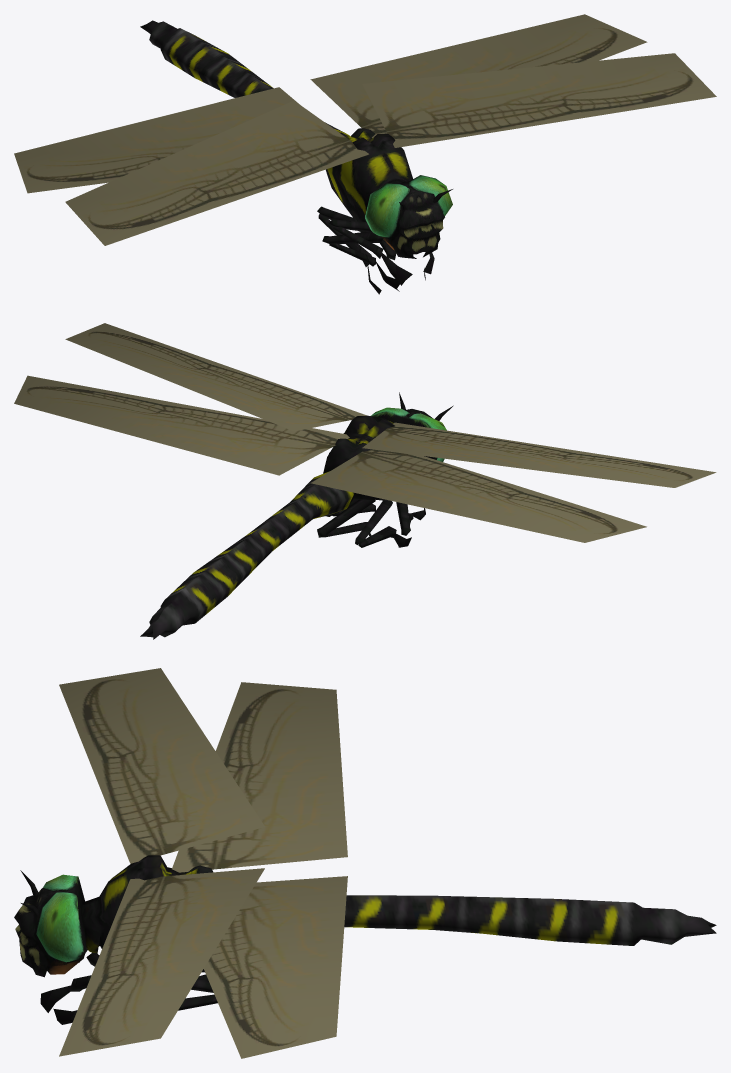
The model's file is InsectOniyanma.glb.
3 renders of one model, top to bottom at view 1: azimuth 30°, elevation 25°; view 2: azimuth 150°, elevation 25°; view 3: azimuth 270°, elevation 25°, orthographic. The views are drawn at different scales.
Parts seen in each view (by area): view 1: pasted__InsectAkiakane_GardenModel1__mWing, pasted__InsectAkiakane_GardenModel10__mOniyanma; view 2: pasted__InsectAkiakane_GardenModel1__mWing, pasted__InsectAkiakane_GardenModel10__mOniyanma; view 3: pasted__InsectAkiakane_GardenModel1__mWing, pasted__InsectAkiakane_GardenModel10__mOniyanma.
Part boxes in pixels (x1,y1,x2,y2): pasted__InsectAkiakane_GardenModel1__mWing: (14, 14, 716, 245); pasted__InsectAkiakane_GardenModel10__mOniyanma: (140, 20, 452, 294); pasted__InsectAkiakane_GardenModel1__mWing: (14, 323, 716, 542); pasted__InsectAkiakane_GardenModel10__mOniyanma: (140, 392, 453, 639); pasted__InsectAkiakane_GardenModel1__mWing: (59, 668, 347, 1058); pasted__InsectAkiakane_GardenModel10__mOniyanma: (14, 855, 716, 1024).
Bounding box in the file's own units: 7.54 × 1.78 × 5.94.
Materials: 2 (2 with a texture image).
